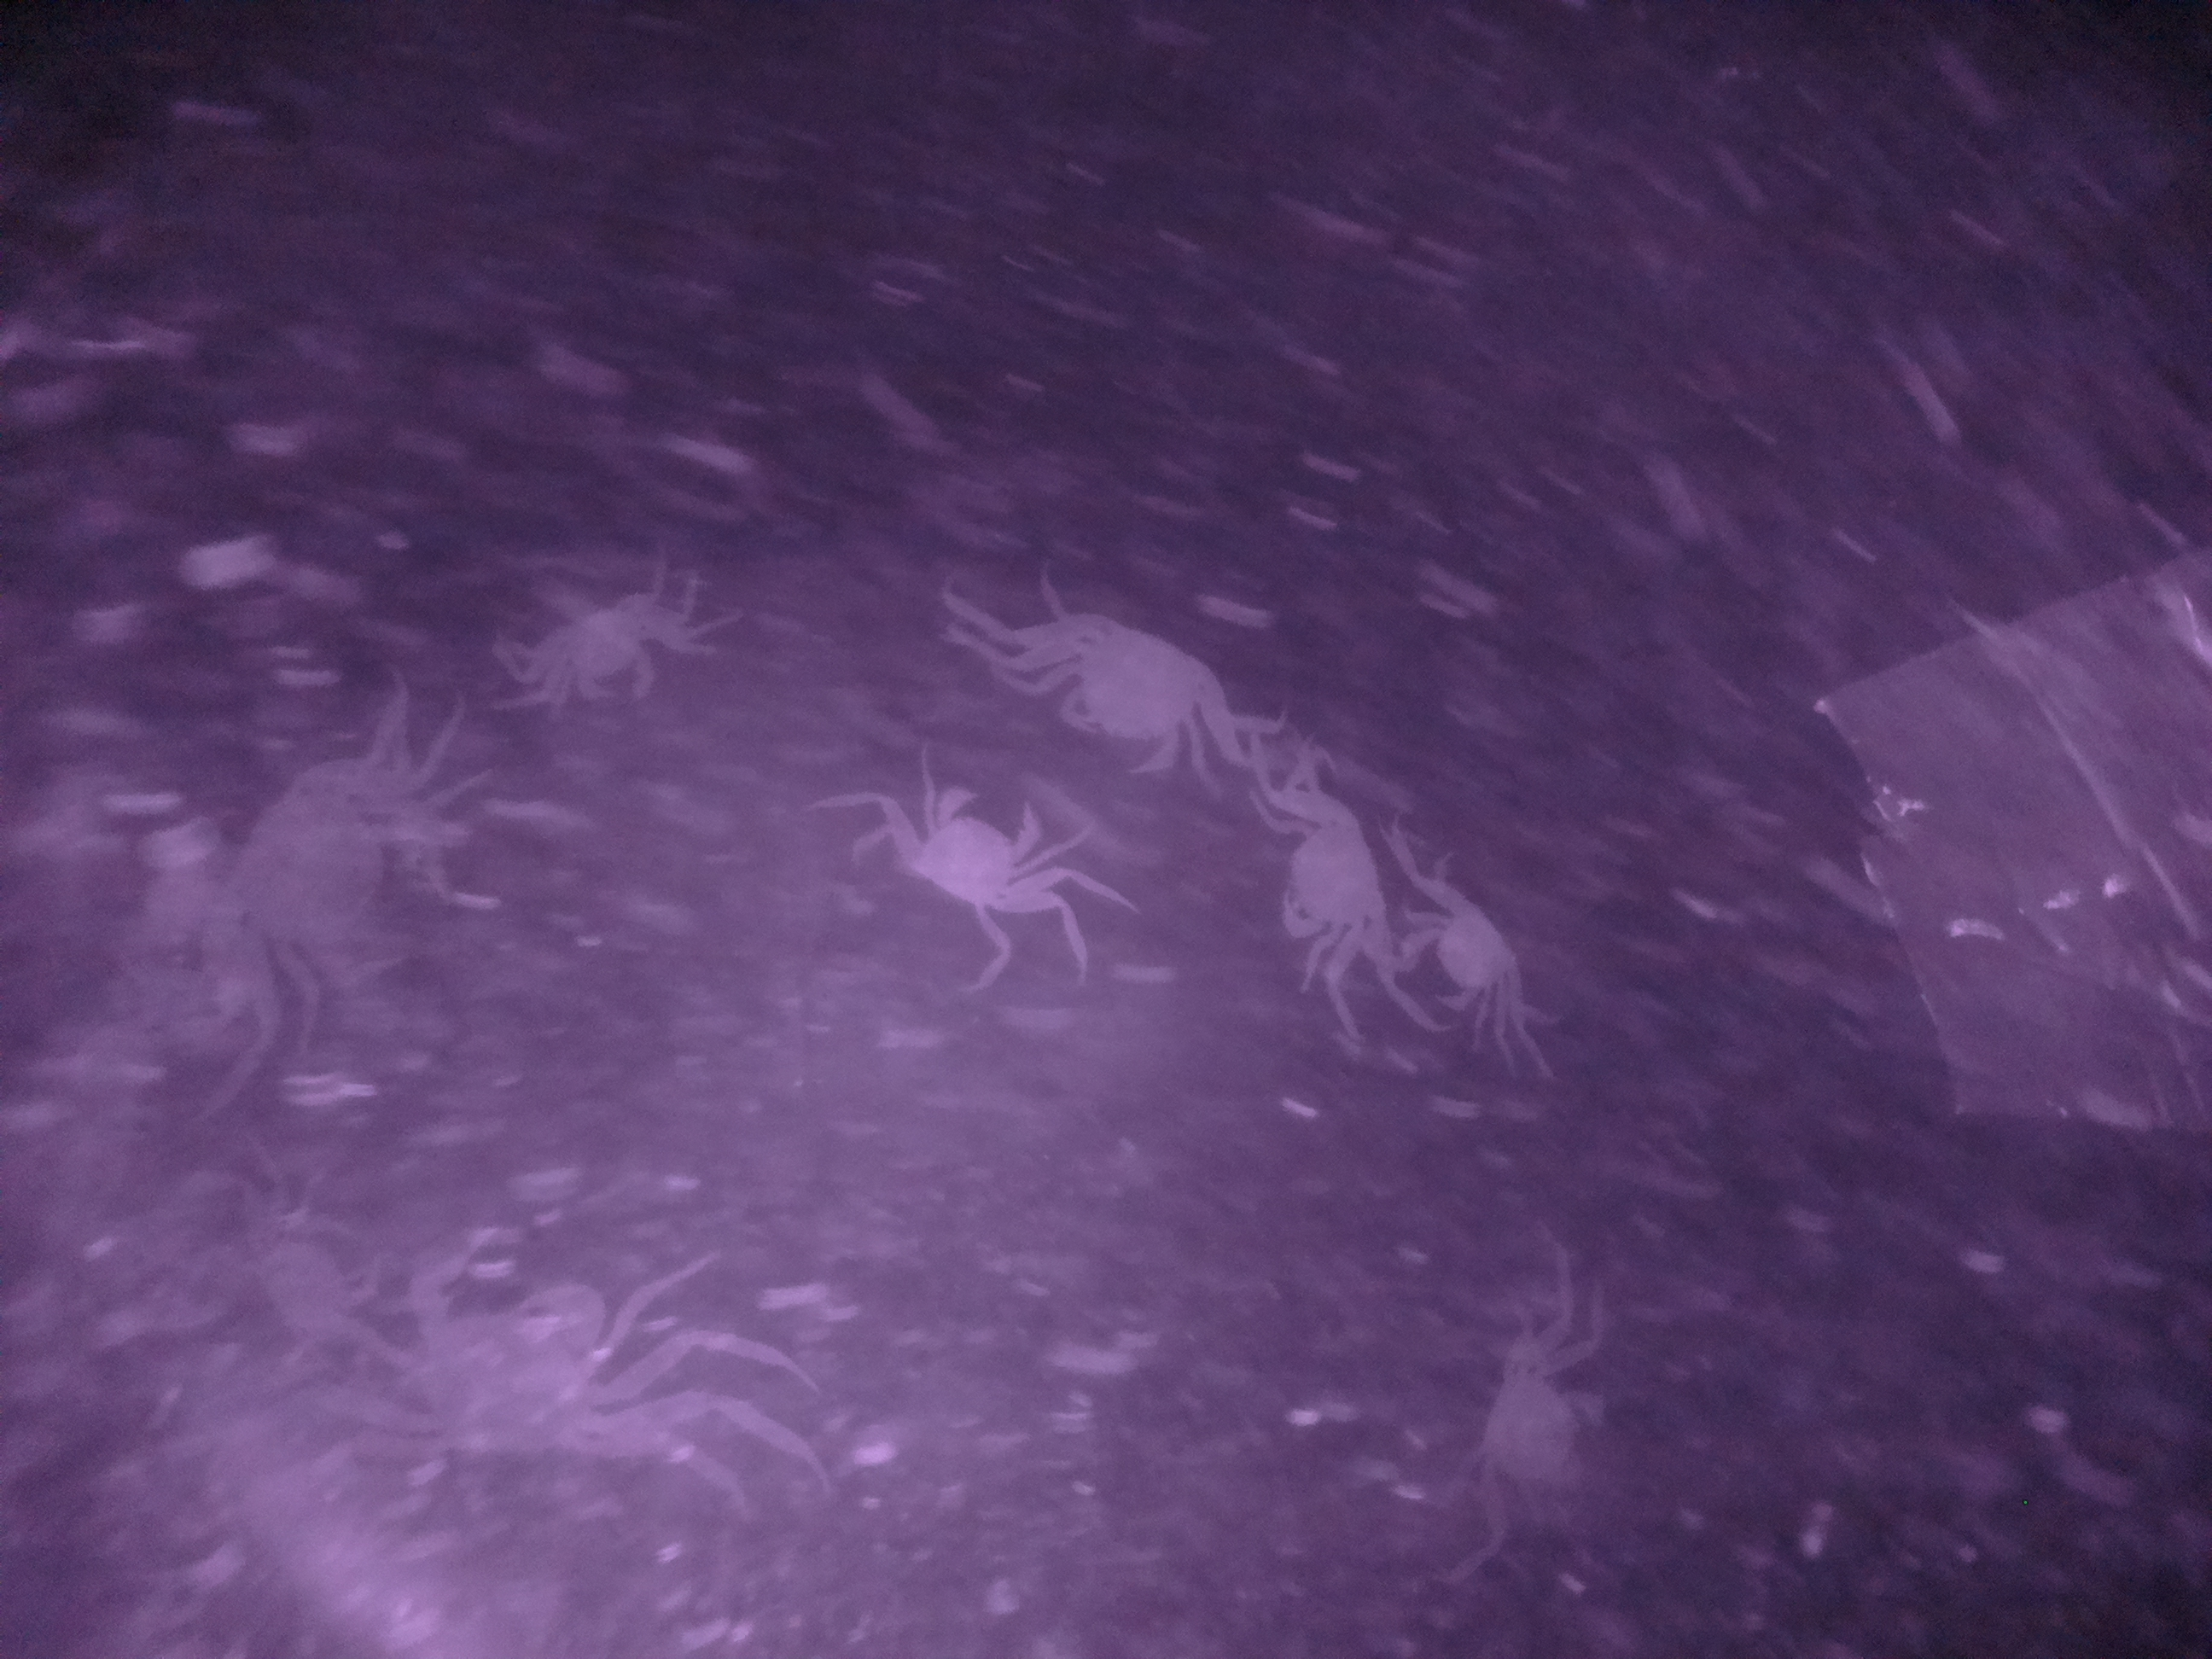Crab: (1033, 594, 1231, 788), (874, 765, 1064, 939), (1252, 784, 1402, 974), (1393, 864, 1533, 1042), (528, 594, 685, 714)
